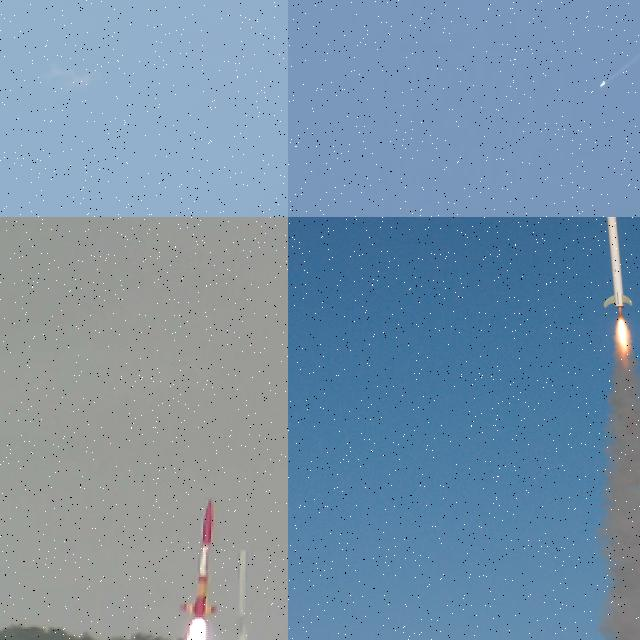Rocket: (178, 498, 218, 618), (603, 217, 633, 309), (600, 80, 605, 88)
